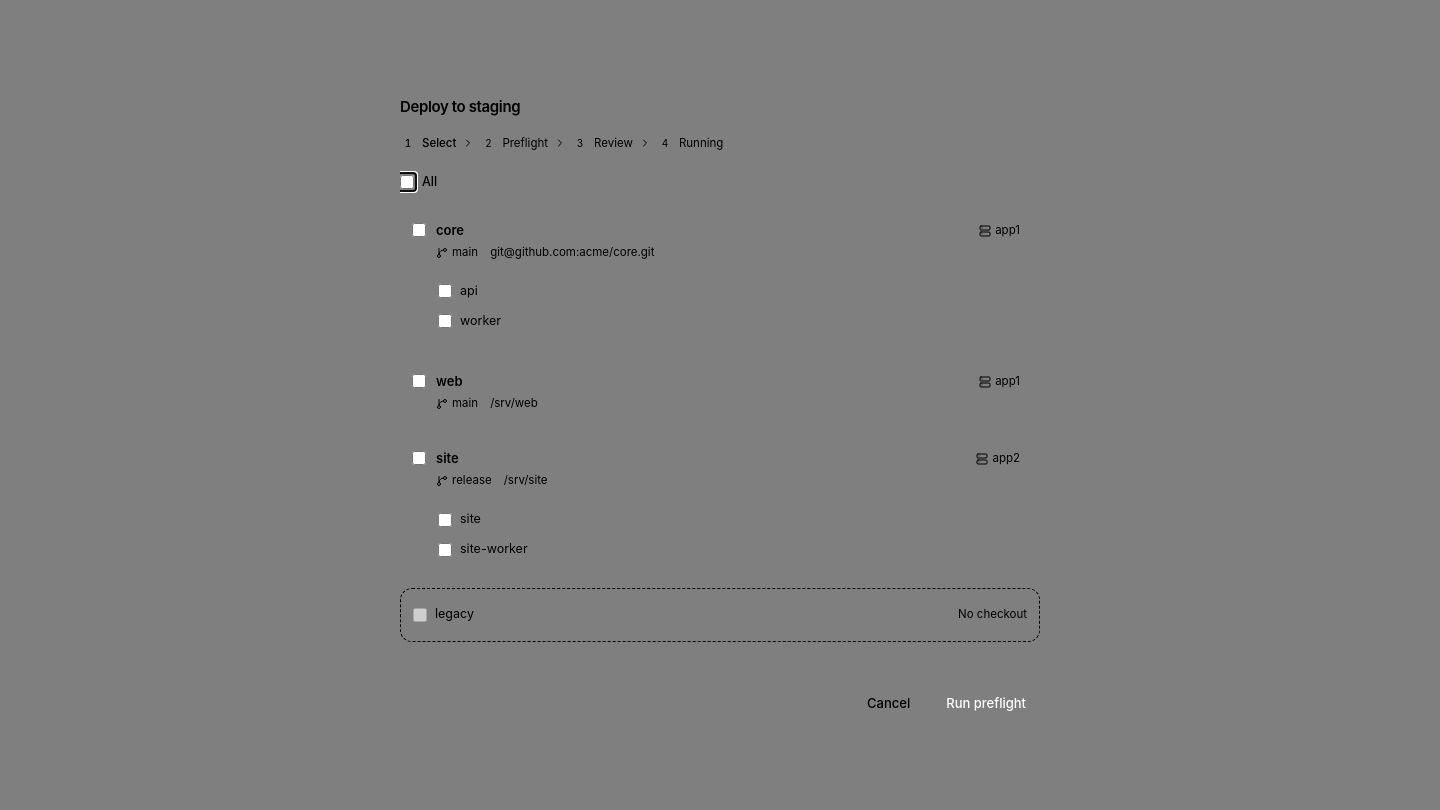
Test case: deploy wizard › All ticks every deployable service and no db
Expected: the checkbox labelled "api" is not checked, [438,284,452,298]
Expected: the checkbox labelled "worker" is not checked, [438,314,452,328]
Step 1. Click the checkbox labelled "All" → (407, 182), box [400,175,414,189]
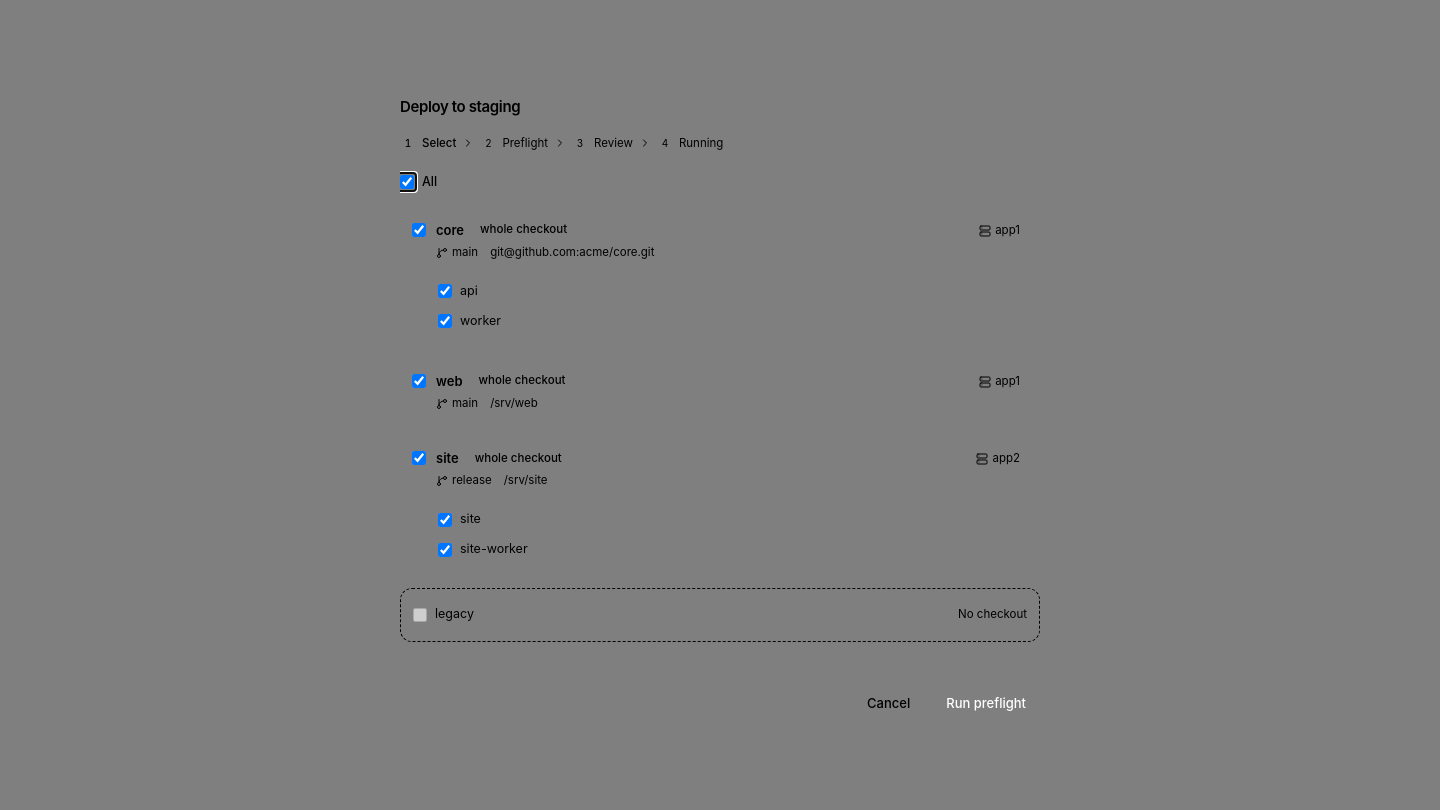
Result: the checkbox labelled "api" is checked at [438,284,452,298]
Result: the checkbox labelled "worker" is checked at [438,314,452,328]
Result: the checkbox labelled "site" is checked at [438,513,452,527]
Step 2. Click the checkbox labelled "All" → (407, 182), box [400,175,414,189]
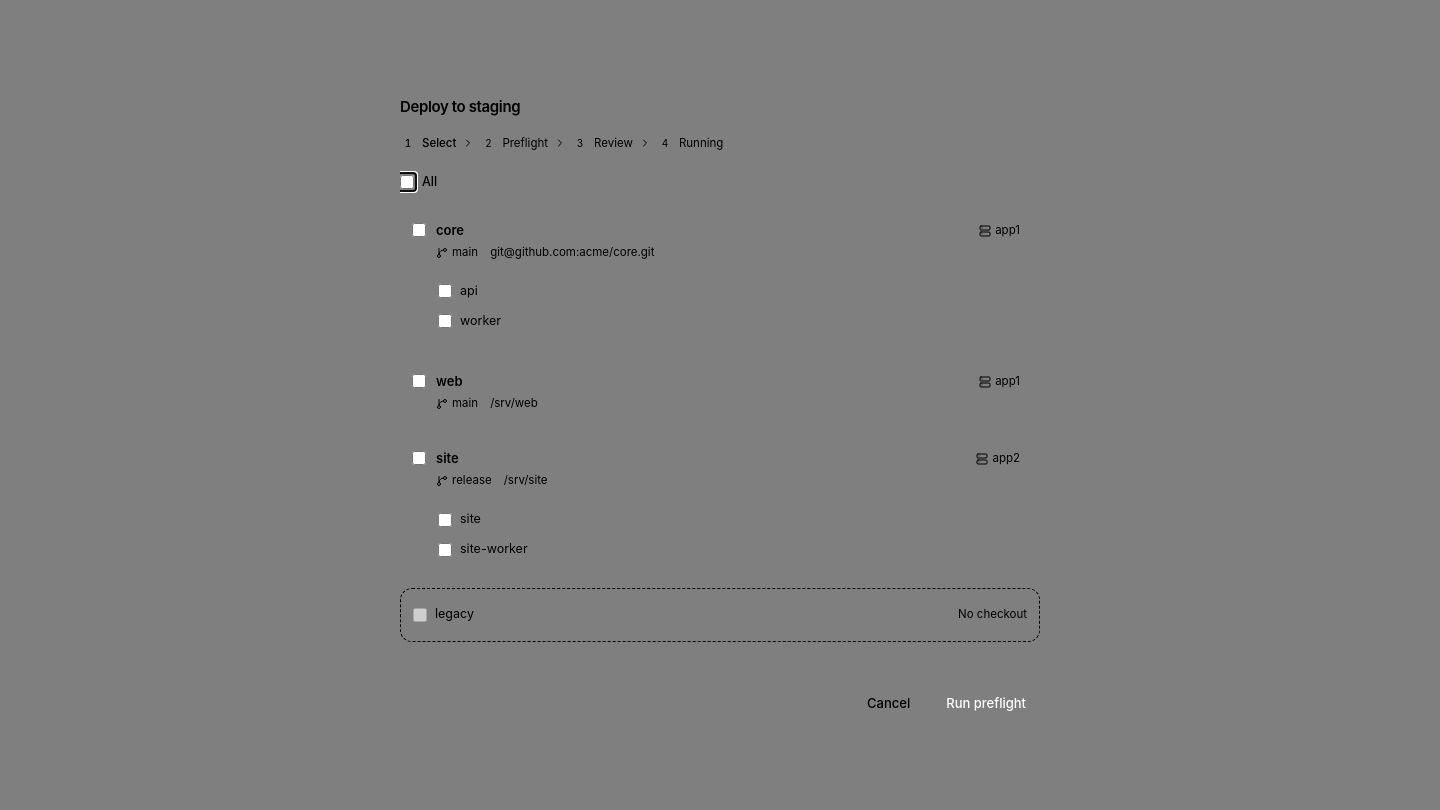
Result: the checkbox labelled "api" is not checked at [438,284,452,298]
